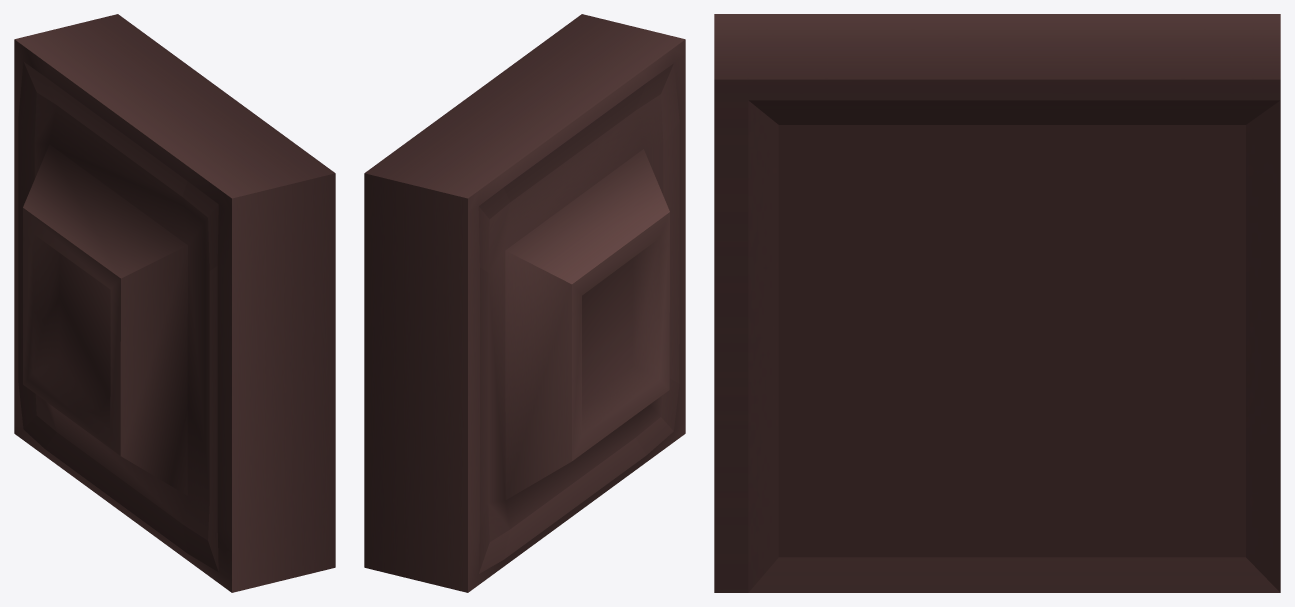
The model's file is HPart_Choco_Single_Whole.fbx.
3 views of the same model, side by side, from view 1: azimuth 30°, elevation 25°; view 2: azimuth 150°, elevation 25°; view 3: azimuth 270°, elevation 25° (orthographic). The views are drawn at different scales.
Visible parts, largest first — view 1: choco1; view 2: choco1; view 3: choco1.
Part boxes in pixels (box(x1,y1,x2,y2)): choco1: box(14, 14, 335, 592); choco1: box(364, 14, 685, 592); choco1: box(714, 14, 1280, 592).
Bounding box in the file's own units: 0.4575 × 1.14 × 1.14.
